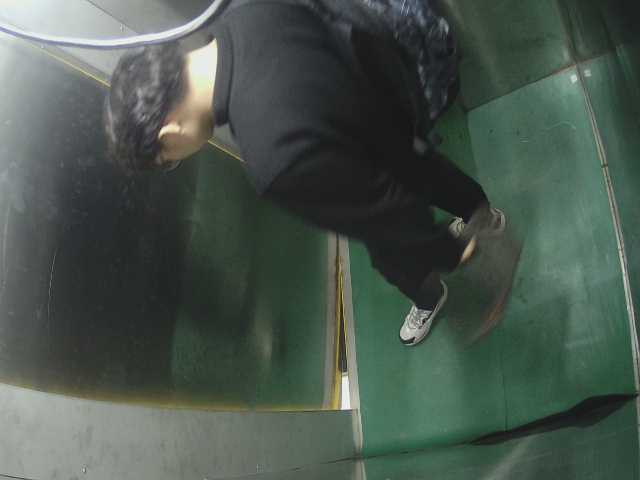bag: (320, 1, 463, 131)
person: (83, 1, 512, 351)
